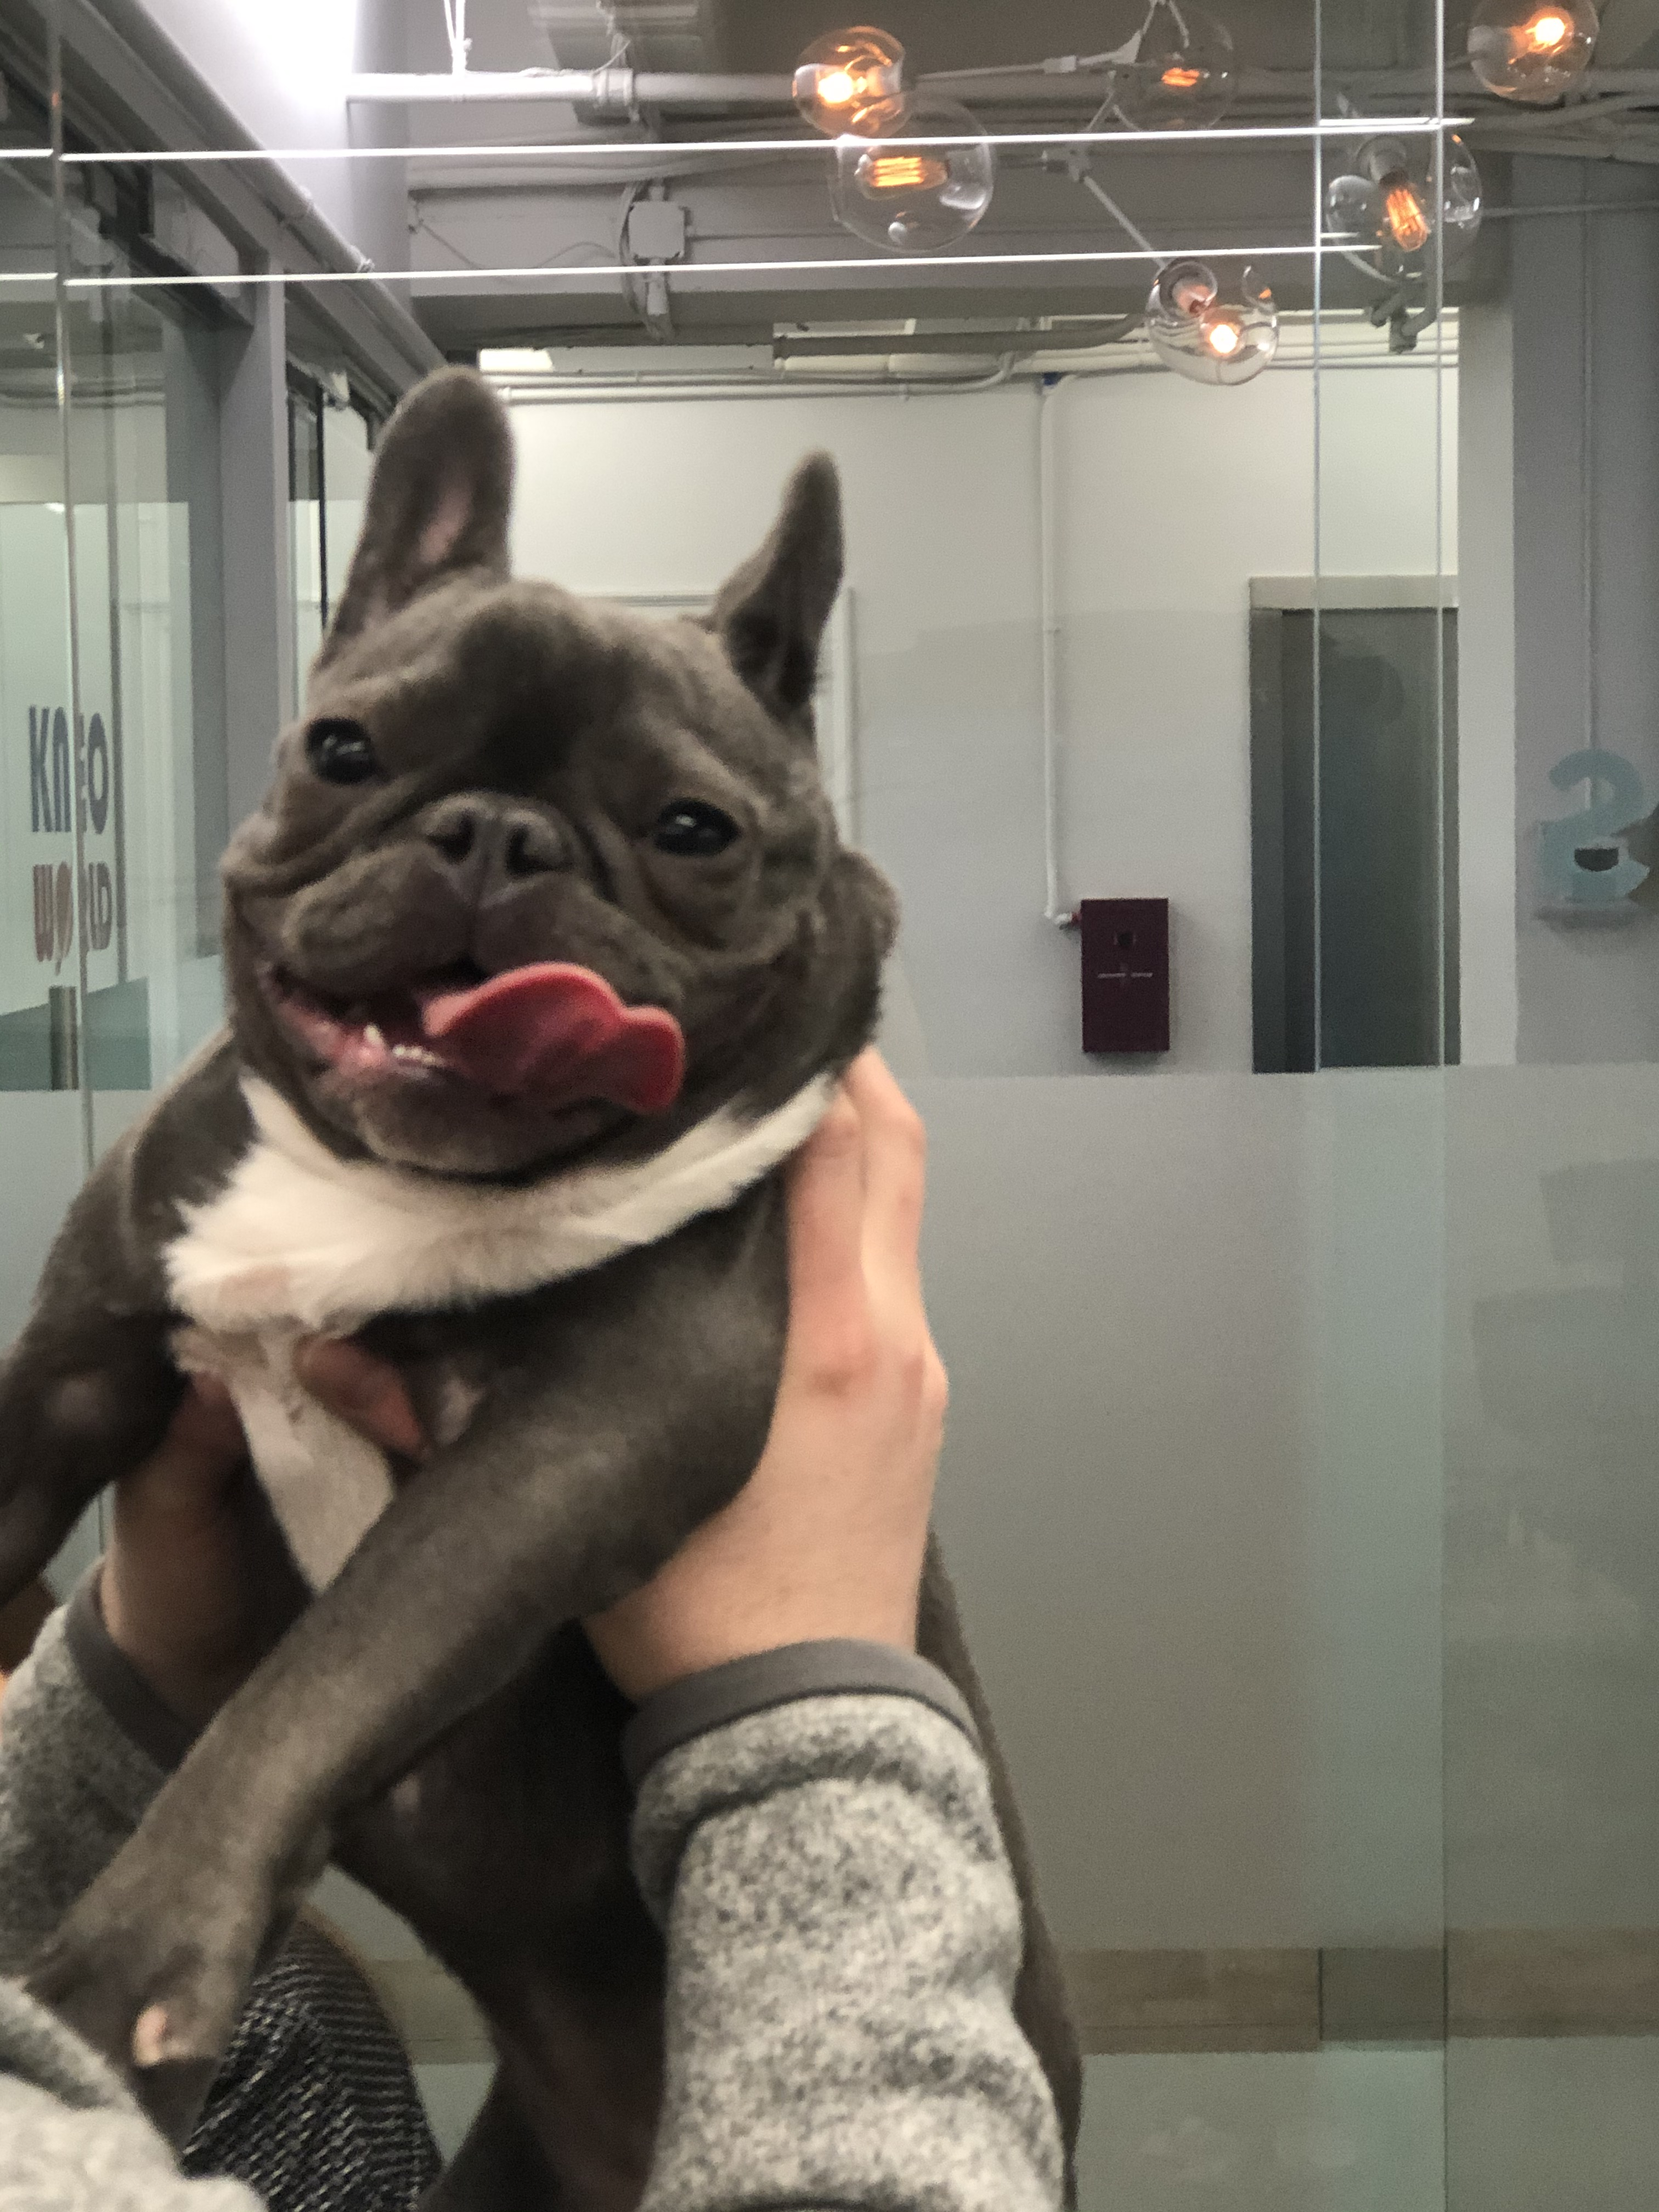lucy: (5, 362, 1094, 2174)
